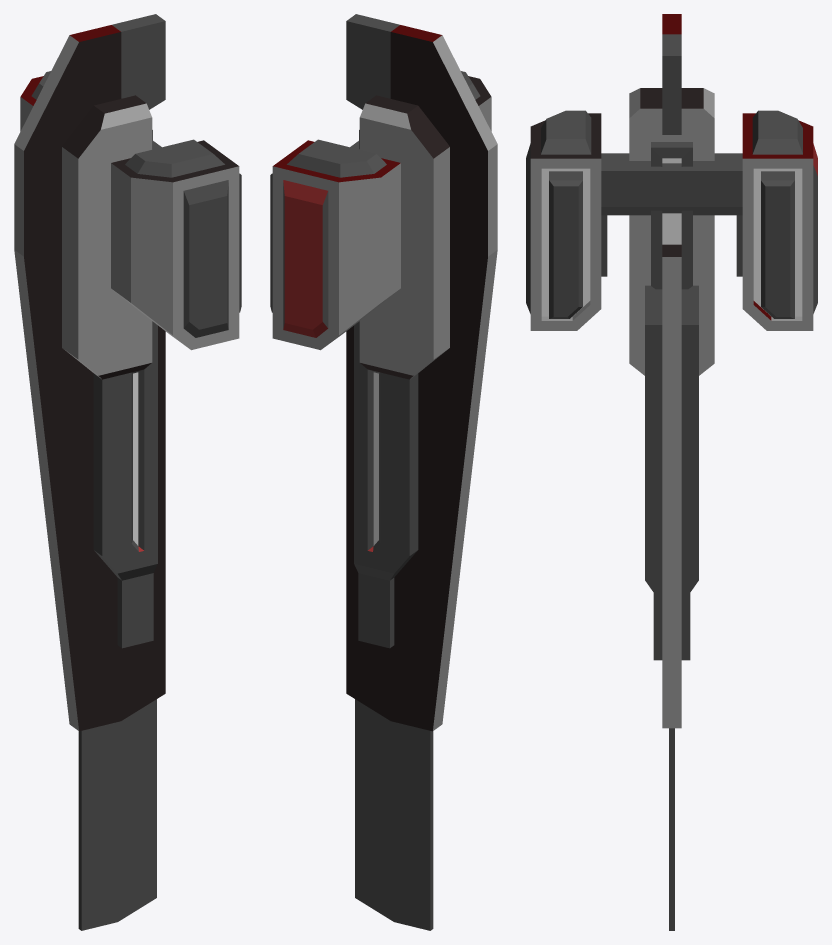
The model's file is artifact2.gltf.
The picture shows the model from 3 angles, left to right: view 1: azimuth 30°, elevation 25°; view 2: azimuth 150°, elevation 25°; view 3: azimuth 270°, elevation 25°; orthographic projection.
Parts seen in each view (by area): view 1: Cube.001; view 2: Cube.001; view 3: Cube.001.
Part boxes in pixels (x1,y1,x2,y2): Cube.001: (14,14,241,930); Cube.001: (270,14,497,930); Cube.001: (526,14,817,930).
Size of the model in its own units: 1.34 by 7.01 by 2.08.
Materials: 2 (1 with a texture image).
